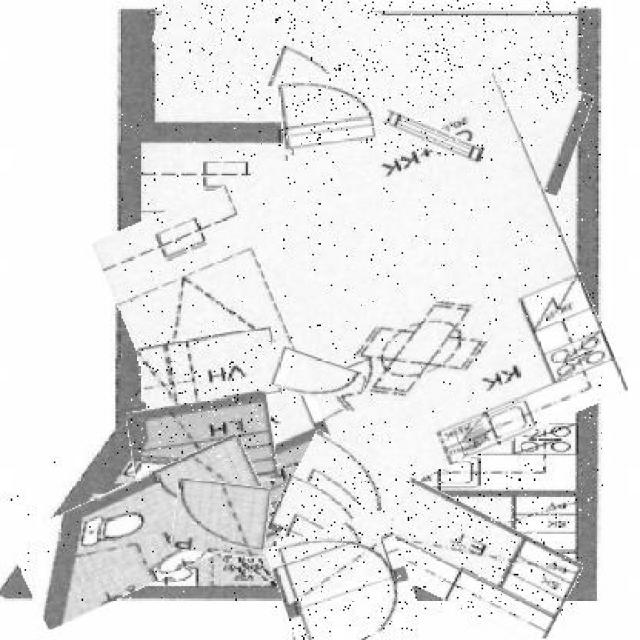door: (274, 517, 414, 640), (271, 486, 391, 563), (278, 72, 372, 154), (174, 482, 269, 556), (262, 351, 364, 406)
window: (380, 118, 485, 158)
zone: (118, 109, 604, 525), (155, 0, 592, 158), (277, 461, 581, 617), (11, 457, 274, 606), (129, 397, 277, 494), (138, 332, 280, 410)
